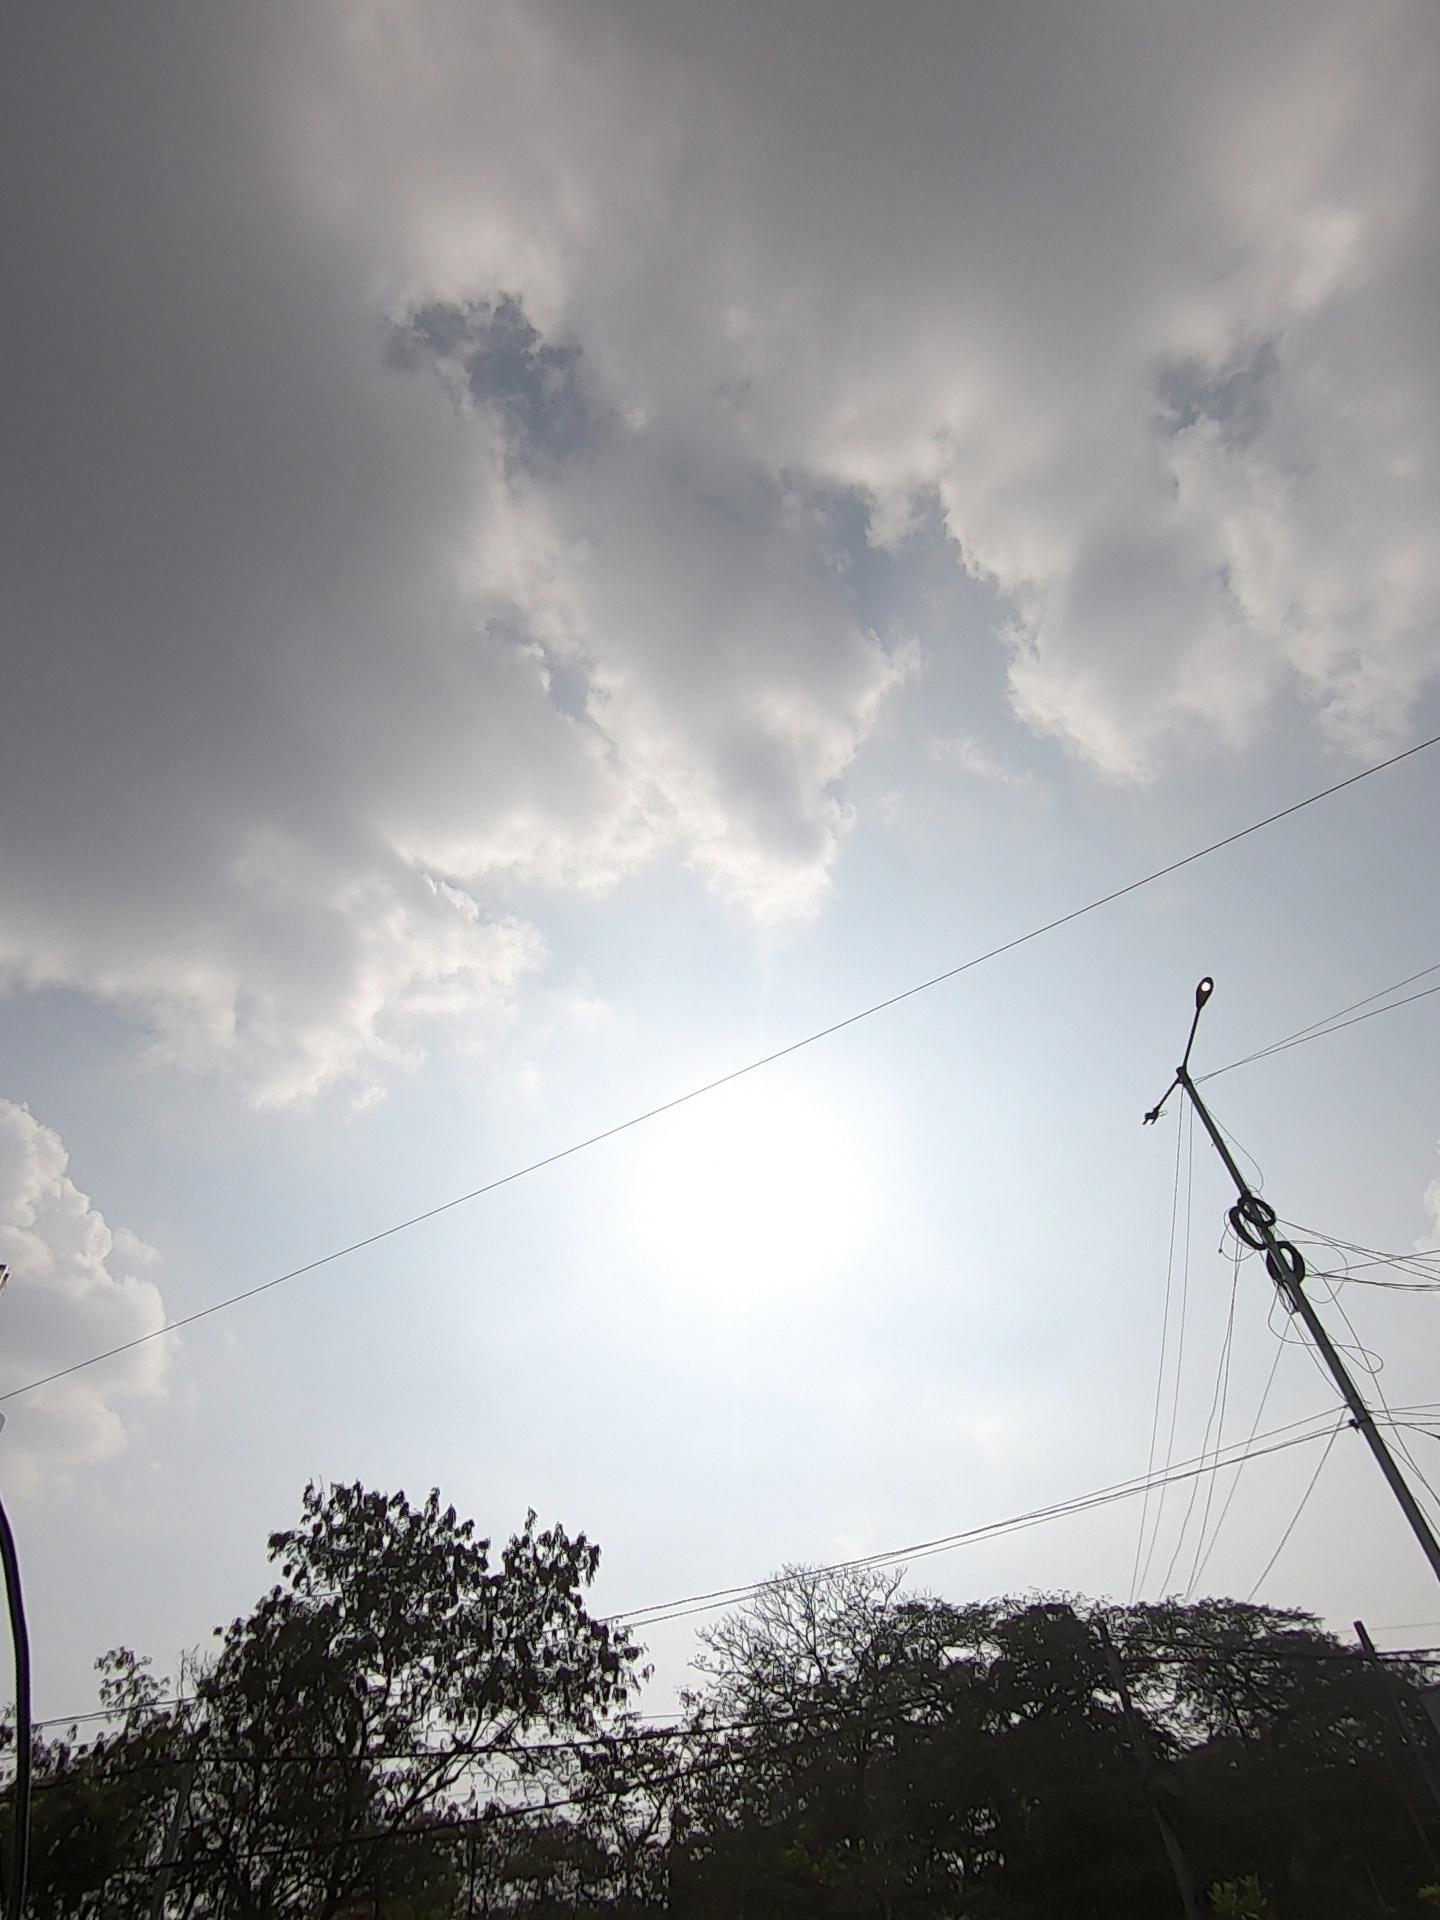off: (1010, 955, 1275, 1164)
